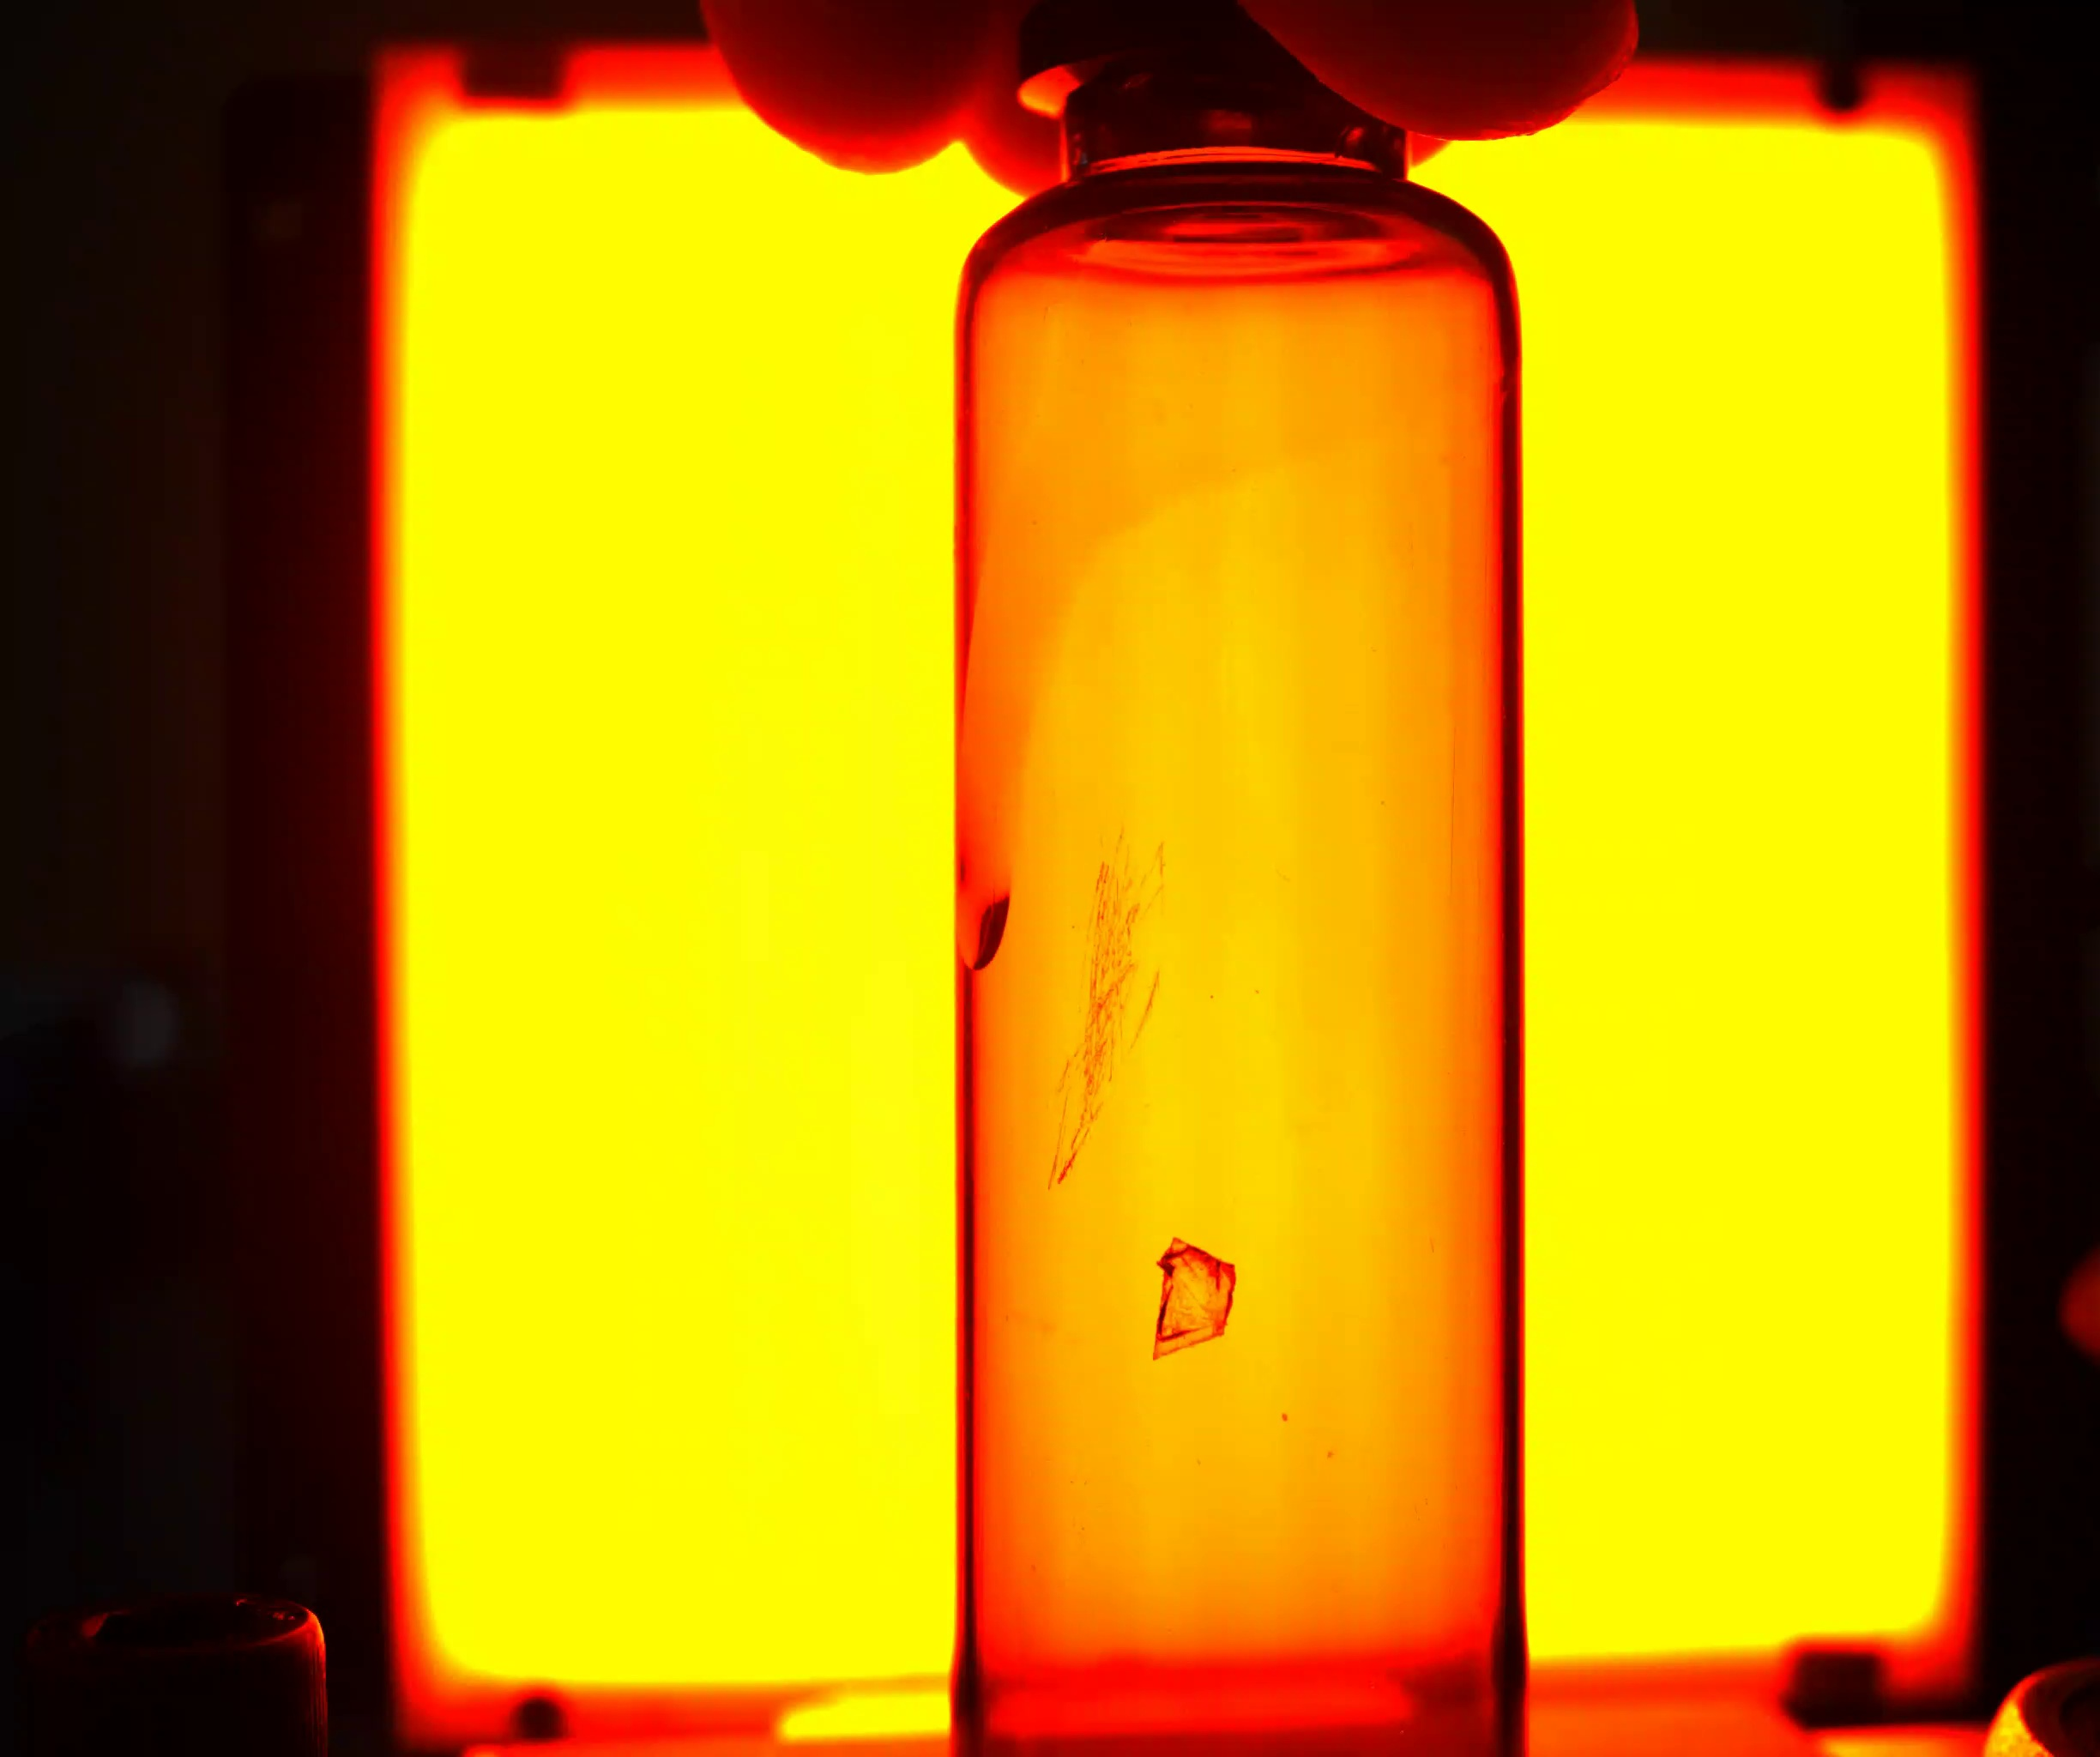scratch: (1055, 839, 1163, 1188)
thorny: (1153, 1235, 1238, 1357)
